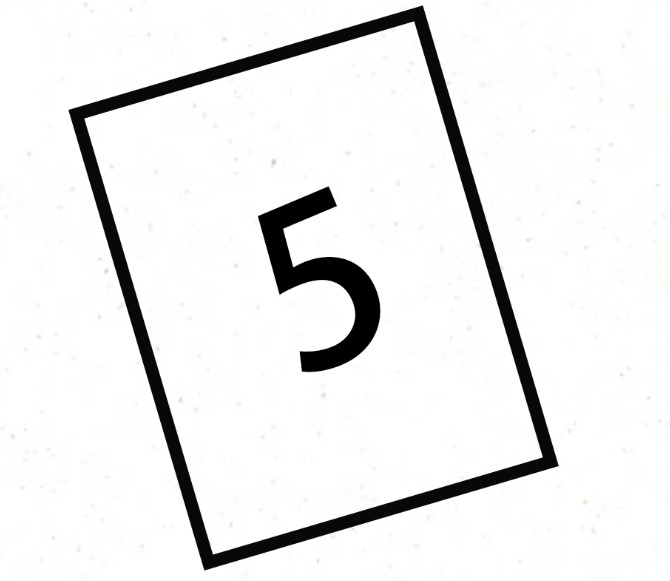five: (210, 129, 421, 419)
